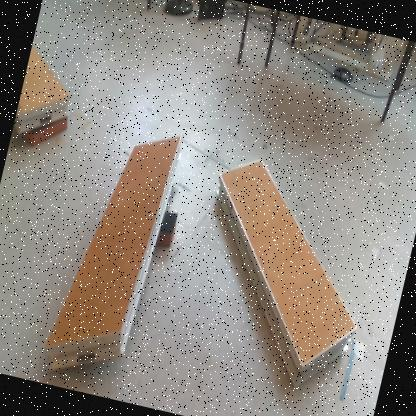Stairs: (216, 160, 358, 389), (46, 136, 182, 370), (15, 47, 72, 135)
